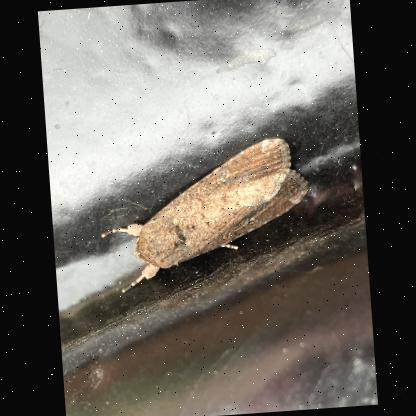Fall Armyworm Moth: (91, 133, 318, 298)
